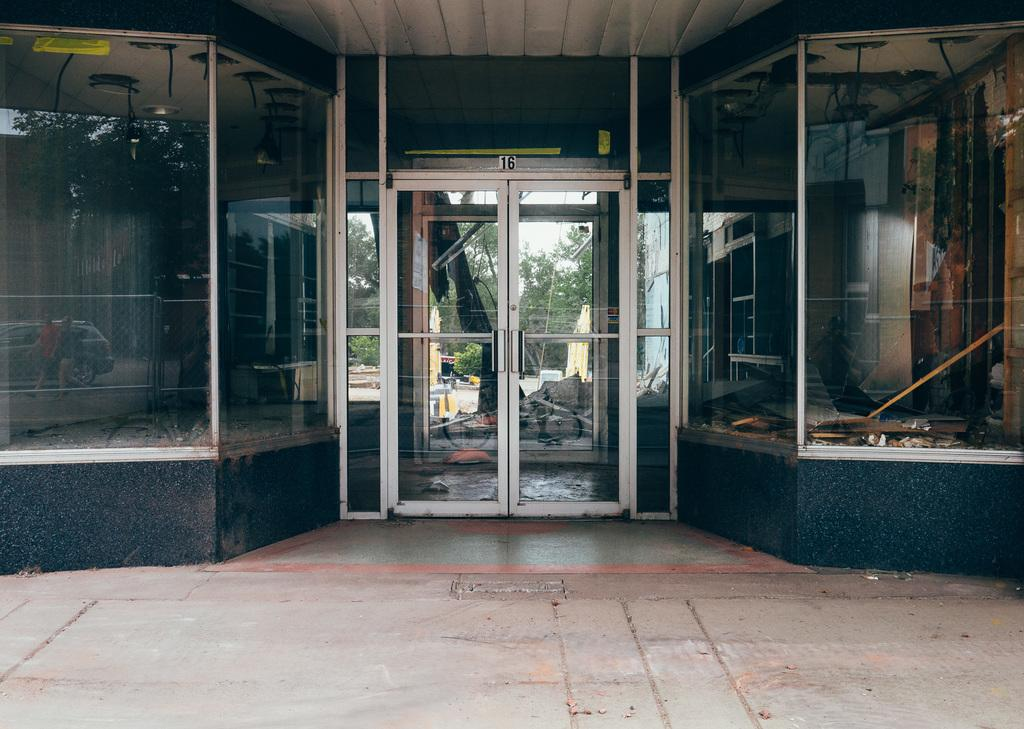handle: (490, 320, 510, 384), (512, 325, 530, 386)
